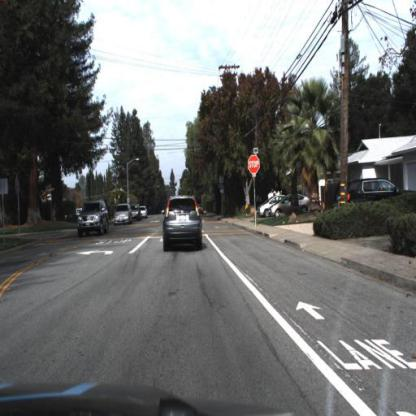car: (336, 168, 412, 219), (157, 189, 203, 260), (75, 188, 112, 244), (344, 176, 401, 210), (267, 188, 312, 219), (112, 200, 131, 229), (252, 190, 266, 225), (130, 202, 143, 223)
